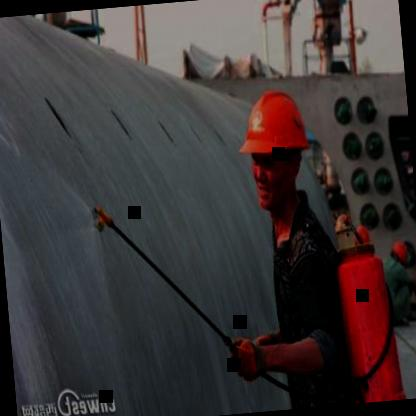helmet: (233, 75, 322, 218)
